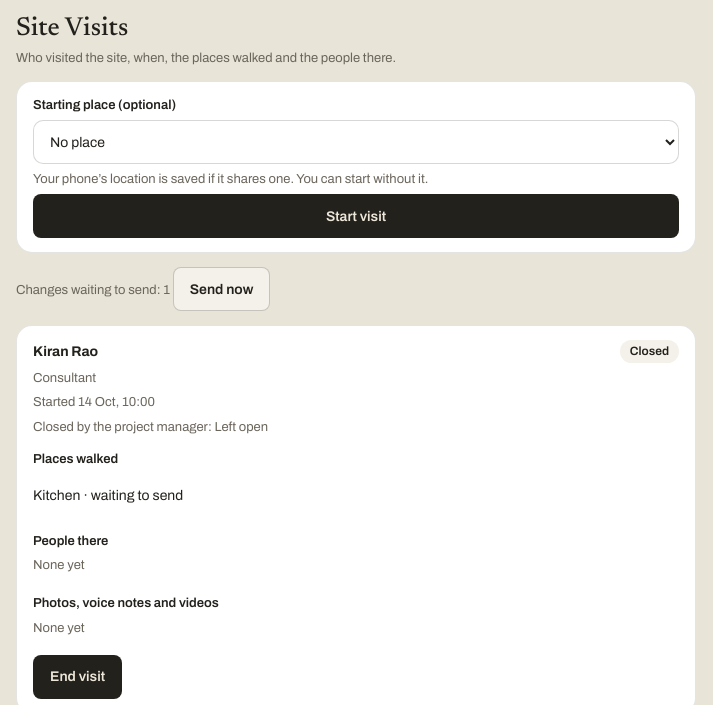
queued acts drawn as the server will read them › shows a place queued on a closed visit only as waiting to send, and once the server refuses it, says so and shows no place (Codex 4335791251)
Click the button "Send now".
click(222, 290)  # box x1=173 y1=268 x2=270 y2=312
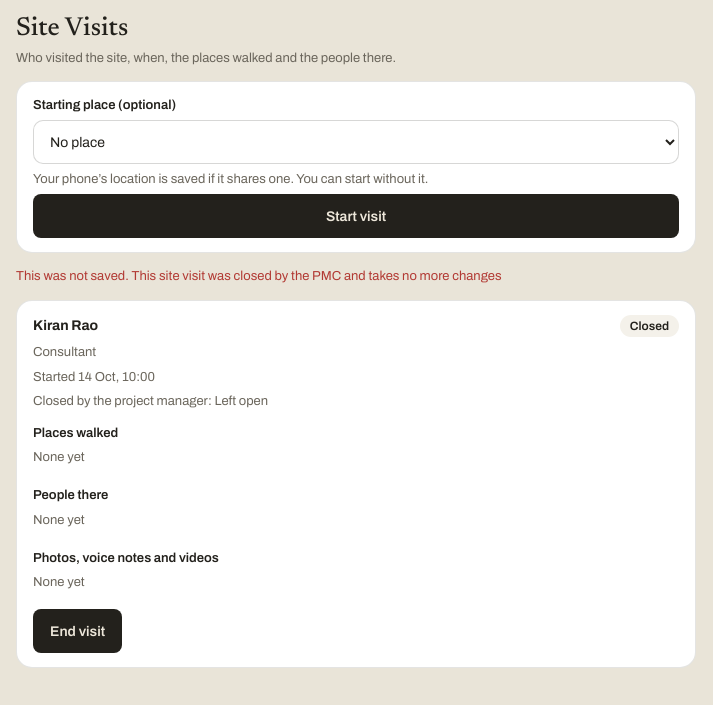
Now the message shows "This was not saved. This site visit was closed by the PMC and takes no more changes", box x1=16 y1=270 x2=502 y2=284
Now the text with test id "sv-visit-v-1" no longer shows "Kitchen"
